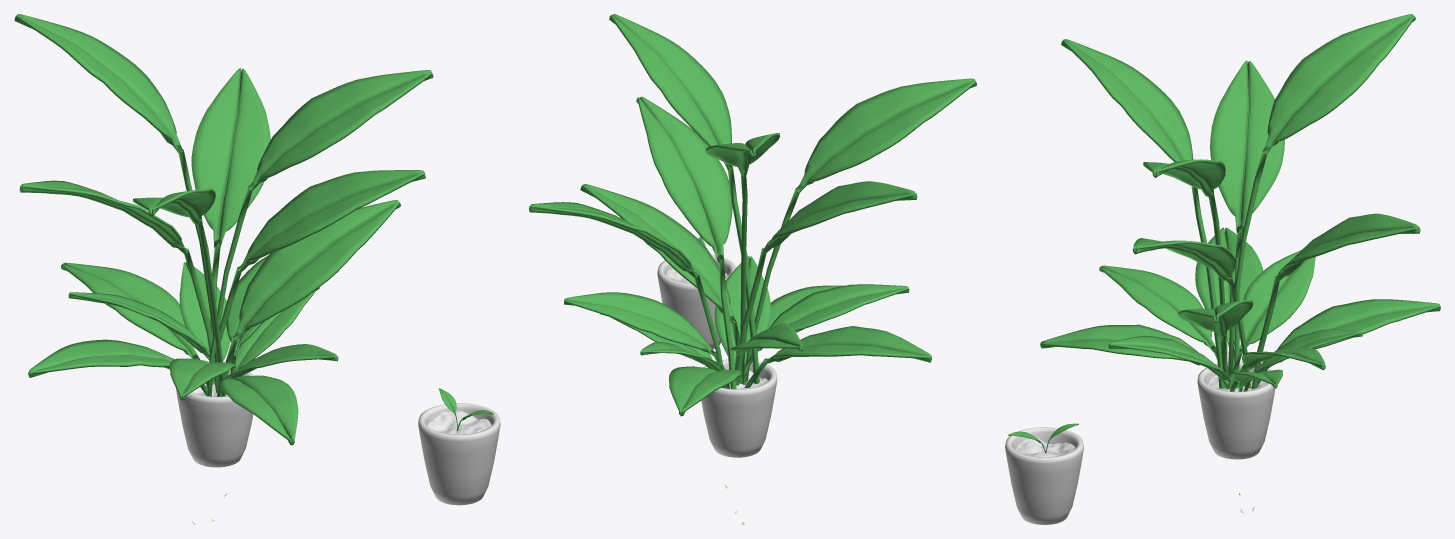
Rendered from potted plants.fbx.
3 renders of one model, left to right at view 1: azimuth 30°, elevation 25°; view 2: azimuth 150°, elevation 25°; view 3: azimuth 270°, elevation 25°, orthographic. The views are drawn at different scales.
Parts seen in each view (by area): view 1: leaf.014, leaf.009, leaf.008, leaf.012, leaf.010, pot, pot.001, leaf.002, leaf.005, leaf2.004, leaf.013, leaf.011 (+7 smaller); view 2: leaf.011, leaf.012, leaf.009, pot.001, leaf.008, leaf.013, leaf.007, leaf.005, leaf.006, leaf.014, leaf.010, pot (+5 smaller); view 3: leaf.010, leaf.013, leaf.011, pot, pot.001, leaf.003, leaf.006, leaf.014, leaf.002, leaf2.004, leaf.012, leaf.009 (+7 smaller).
Boxes of the visible parts, left/top/right/bottom form: leaf.014: left=191, top=68, right=270, bottom=520; leaf.009: left=207, top=70, right=433, bottom=396; leaf.008: left=216, top=200, right=400, bottom=396; leaf.012: left=192, top=170, right=425, bottom=524; leaf.010: left=14, top=14, right=217, bottom=393; pot: left=418, top=403, right=500, bottom=505; pot.001: left=176, top=370, right=253, bottom=467; leaf.002: left=61, top=262, right=207, bottom=385; leaf.005: left=28, top=339, right=211, bottom=396; leaf2.004: left=220, top=375, right=298, bottom=445; leaf.013: left=19, top=180, right=227, bottom=497; leaf.011: left=133, top=188, right=225, bottom=396; leaf.011: left=745, top=78, right=976, bottom=381; leaf.012: left=636, top=96, right=744, bottom=524; leaf.009: left=609, top=14, right=759, bottom=383; pot.001: left=701, top=359, right=777, bottom=457; leaf.008: left=580, top=184, right=746, bottom=384; leaf.013: left=725, top=181, right=917, bottom=488; leaf.007: left=564, top=292, right=725, bottom=369; leaf.005: left=744, top=326, right=931, bottom=388; leaf.006: left=739, top=284, right=909, bottom=383; leaf.014: left=529, top=202, right=736, bottom=513; leaf.010: left=705, top=133, right=779, bottom=384; pot: left=657, top=254, right=735, bottom=349; leaf.010: left=1228, top=14, right=1415, bottom=376; leaf.013: left=1210, top=60, right=1284, bottom=494; leaf.011: left=1061, top=39, right=1224, bottom=388; pot: left=1005, top=427, right=1083, bottom=524; pot.001: left=1197, top=361, right=1275, bottom=459; leaf.003: left=1227, top=250, right=1315, bottom=389; leaf.006: left=1099, top=265, right=1217, bottom=359; leaf.014: left=1240, top=213, right=1420, bottom=512; leaf.002: left=1251, top=299, right=1440, bottom=388; leaf2.004: left=1040, top=324, right=1228, bottom=386; leaf.012: left=1132, top=238, right=1254, bottom=511; leaf.009: left=1143, top=159, right=1227, bottom=358.
Bounding box in the file's own units: 1010 × 1228 × 1071.
